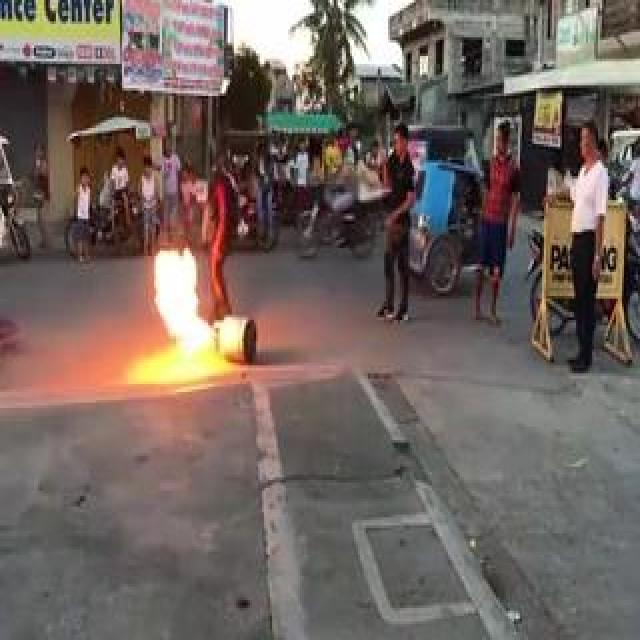Smoke: (88, 243, 152, 357)
